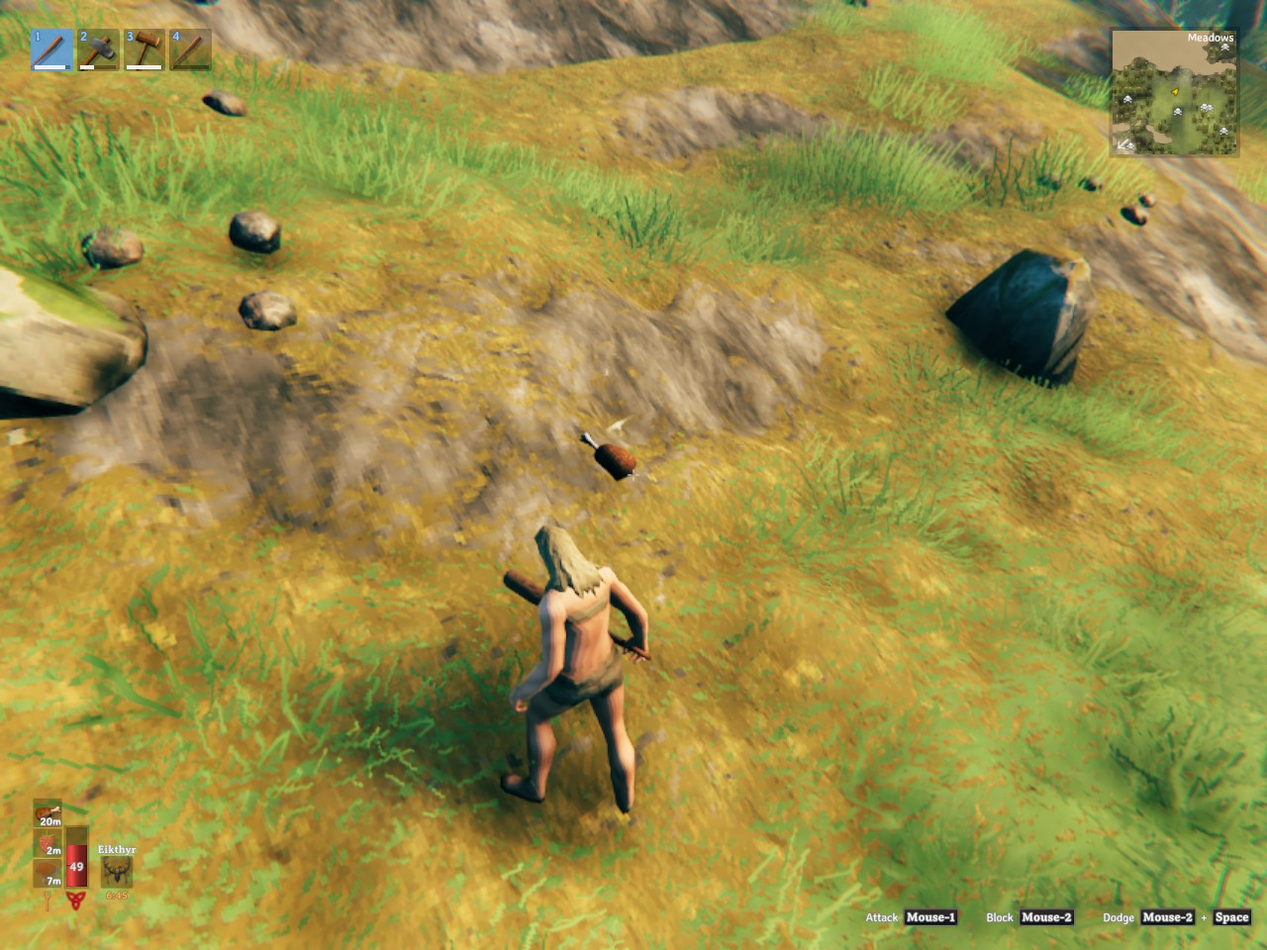Club: (503, 570, 543, 604)
Cooked Boar Meat: (580, 431, 635, 479)
Food Indicator: (36, 798, 63, 891)
Health Bar: (63, 824, 90, 891)
Hotbar: (25, 21, 398, 78)
